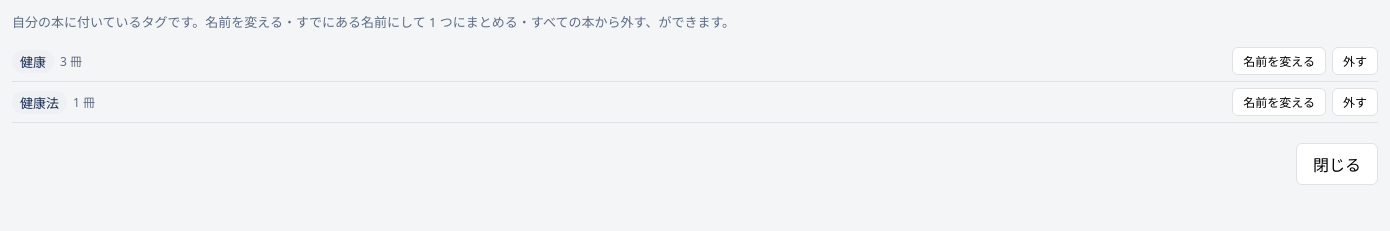
Scenario: TagsPanel（タグの管理） › 入力した名前が自分の別のタグと同じなら「1 つにまとめます」と先に知らせ、まとめた結果を出す
Click the button "名前を変える" in the row of "健康法". click: (1279, 102)
box: [1232, 88, 1326, 116]
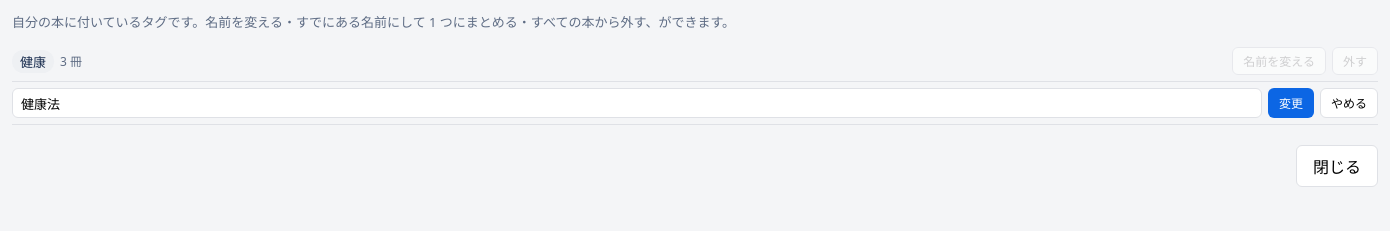
Replace the text in the field with class "rename-input" with "健康". click: (637, 103)
box: [12, 88, 1262, 118]
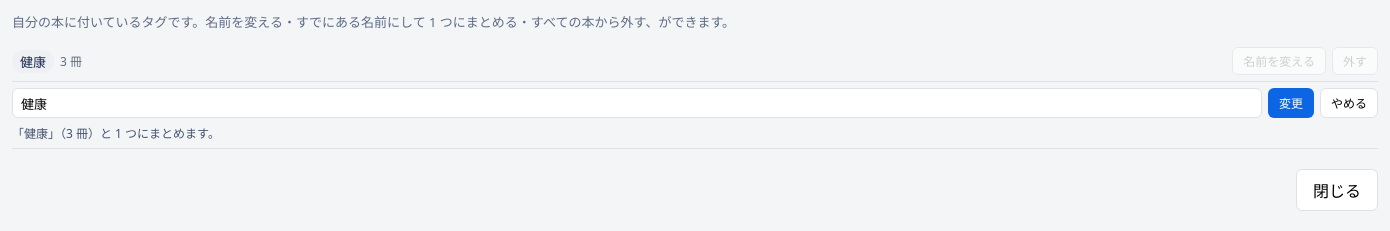
Expected: the text with class "merge-note" reads "「健康」（3 冊）と 1 つにまとめます。", [12, 125, 220, 142]
Submit the form with class "rename-form", box [12, 88, 1378, 118]
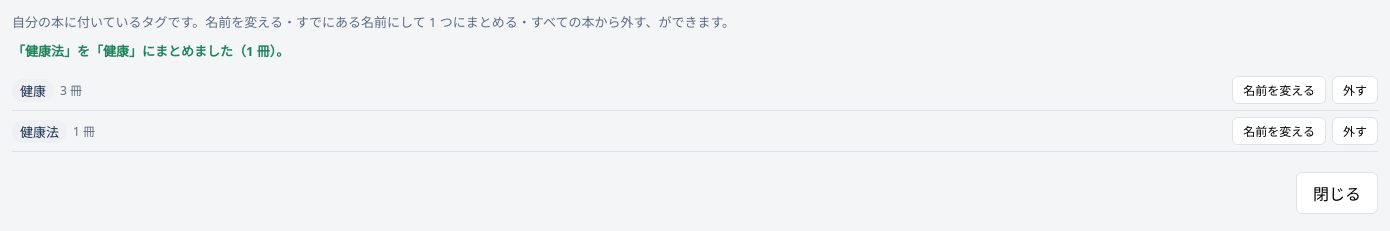
Expected: the message with class "done-message" reads "「健康法」を「健康」にまとめました（1 冊）。", [12, 42, 289, 60]
